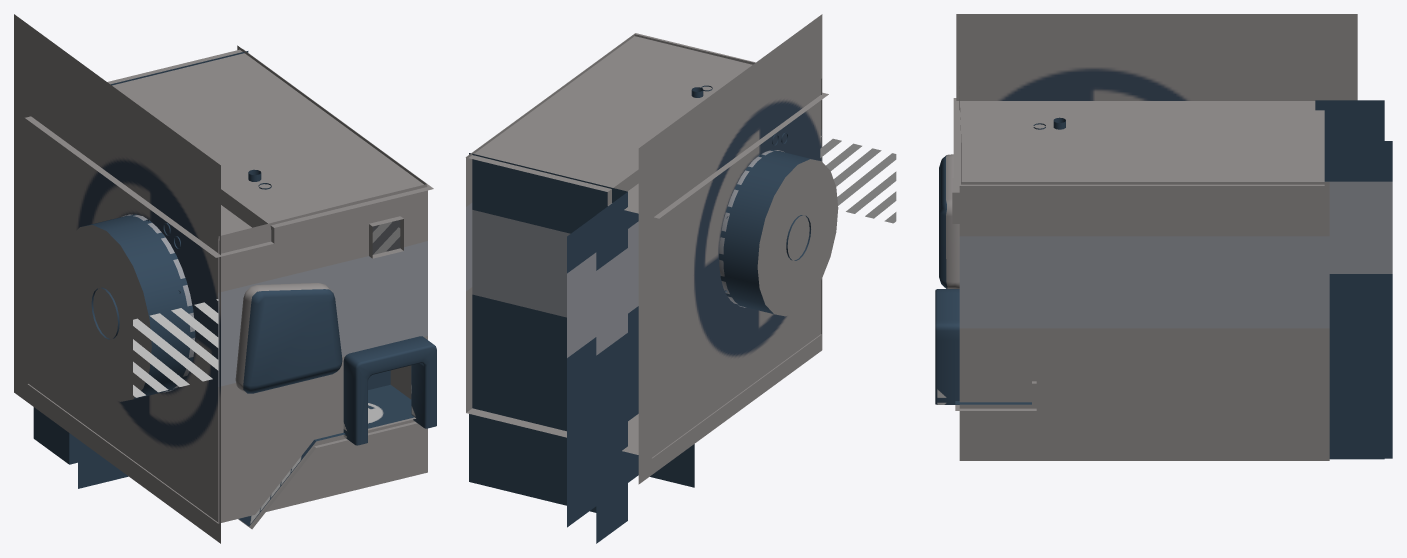
Rendered from Staff_Room_Fondations.fbx.
The picture shows the model from 3 angles, left to right: view 1: azimuth 30°, elevation 25°; view 2: azimuth 150°, elevation 25°; view 3: azimuth 270°, elevation 25°; orthographic projection. The views are drawn at different scales.
Parts seen in each view (by area): view 1: SM_SR_ventilateur, SM_SR_fondation_01, SM_SR_fondation_05, SM_SR_horloge, SM_SR_Door, SM_SR_Alpha_10, SM_SR_fondation_02, SM_SR_fondation_03, SM_SR_fondation_04; view 2: SM_SR_ventilateur, SM_SR_fondation_03, SM_SR_fondation_05, SM_SR_fondation_04, SM_SR_fondation_01, SM_SR_Alpha_10; view 3: SM_SR_fondation_01, SM_SR_ventilateur, SM_SR_fondation_05, SM_SR_fondation_04, SM_SR_Door, SM_SR_fondation_03, SM_SR_horloge.
Part boxes in pixels (box(x1,y1,x2,y2)): SM_SR_ventilateur: box(14, 14, 220, 543); SM_SR_fondation_01: box(28, 45, 427, 523); SM_SR_fondation_05: box(25, 49, 433, 257); SM_SR_horloge: box(235, 283, 342, 393); SM_SR_Door: box(343, 336, 436, 445); SM_SR_Alpha_10: box(133, 299, 218, 397); SM_SR_fondation_02: box(238, 370, 416, 529); SM_SR_fondation_03: box(33, 51, 248, 464); SM_SR_fondation_04: box(78, 439, 128, 488); SM_SR_ventilateur: box(638, 14, 838, 484); SM_SR_fondation_03: box(469, 153, 627, 543); SM_SR_fondation_05: box(465, 33, 828, 218); SM_SR_fondation_04: box(567, 211, 694, 527); SM_SR_fondation_01: box(466, 34, 821, 458); SM_SR_Alpha_10: box(820, 135, 896, 223); SM_SR_fondation_01: box(952, 86, 1329, 460); SM_SR_ventilateur: box(956, 14, 1357, 100); SM_SR_fondation_05: box(953, 98, 1324, 185); SM_SR_fondation_04: box(1324, 141, 1392, 458); SM_SR_Door: box(935, 289, 959, 404); SM_SR_fondation_03: box(1315, 100, 1384, 459); SM_SR_horloge: box(939, 154, 959, 288).
Bounding box in the file's own units: 2763 × 3764 × 3635.
